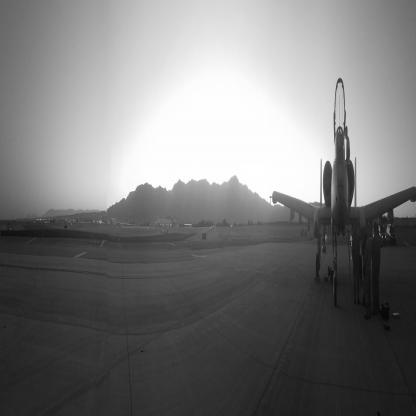A10: (270, 77, 416, 309)
